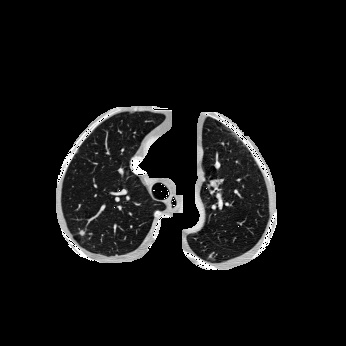PN: (79, 231, 83, 235)
